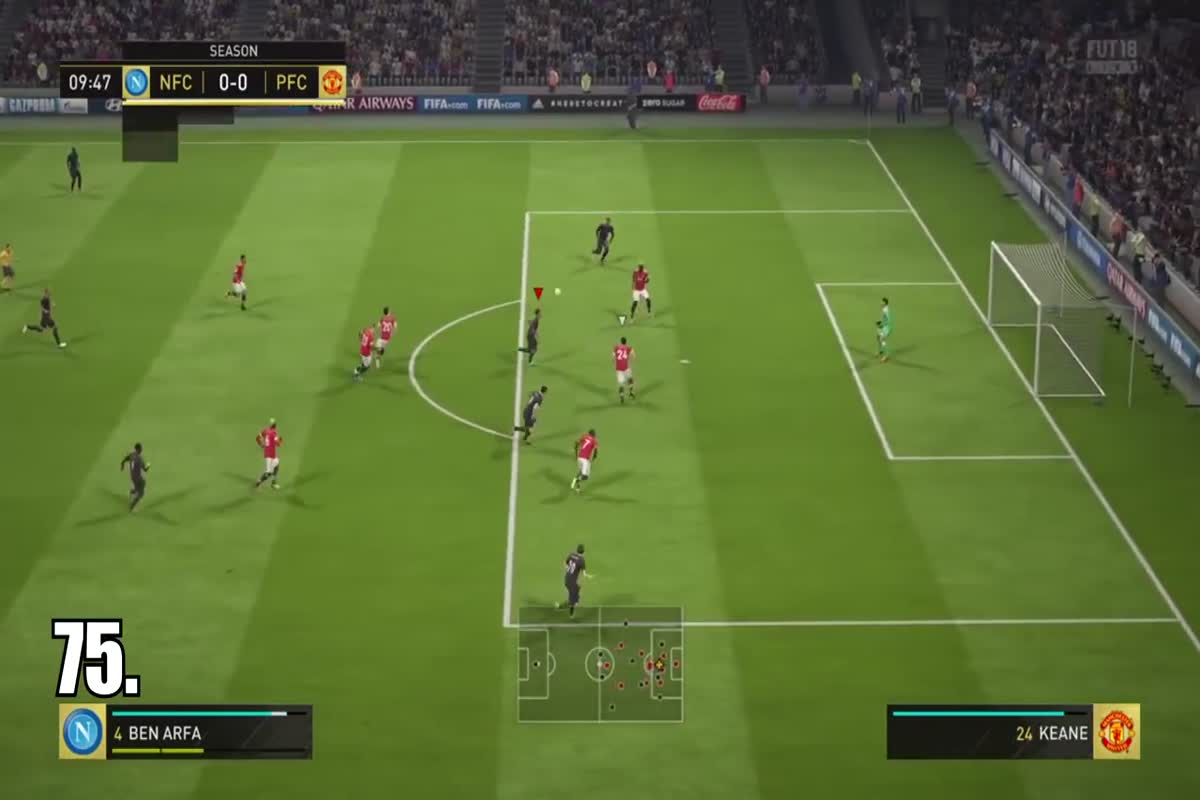ball: (547, 280, 574, 303)
